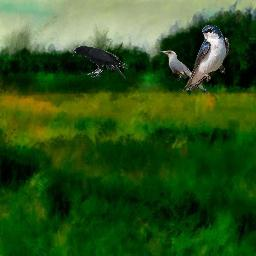Crow: (71, 46, 128, 78)
Cuckoo: (158, 50, 209, 95)
Swallow: (182, 24, 230, 92)
